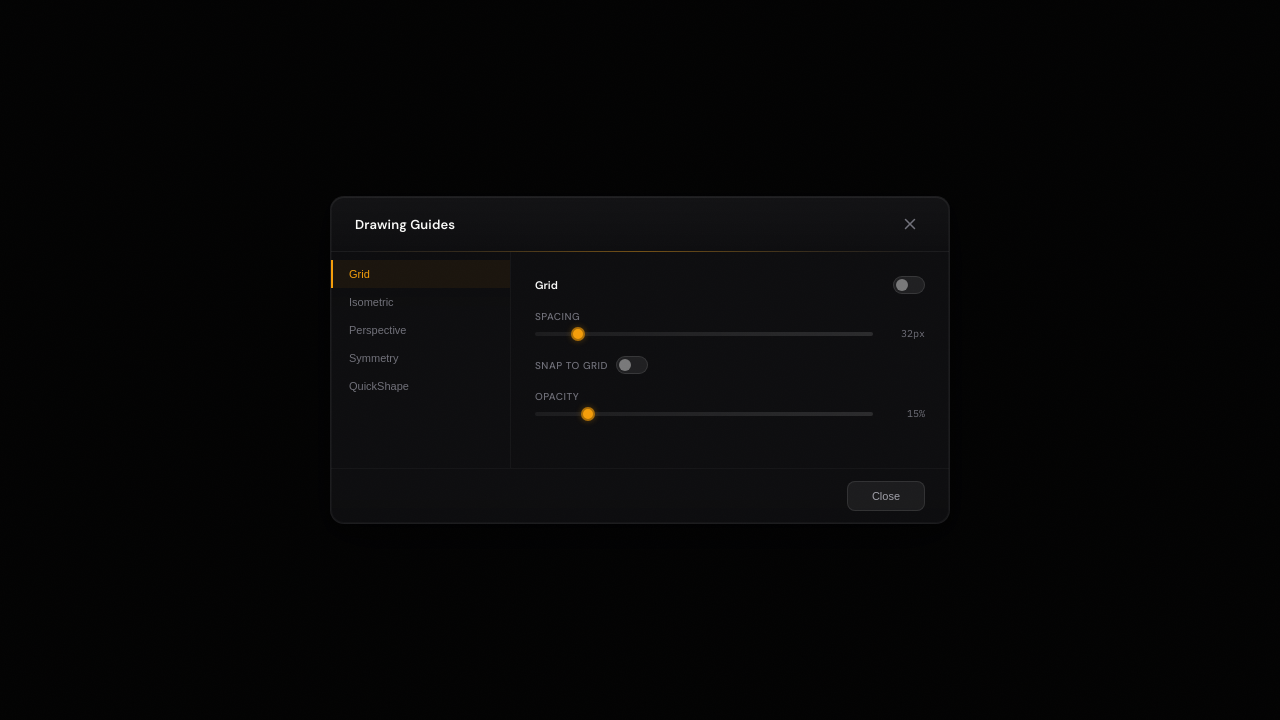
Test: DrawingGuidesDialog › switches to perspective section
What coordinates should you click on to do the following:
click the button "Perspective"
I would click on:
 (420, 330)
Its box is [331,316,510,344].
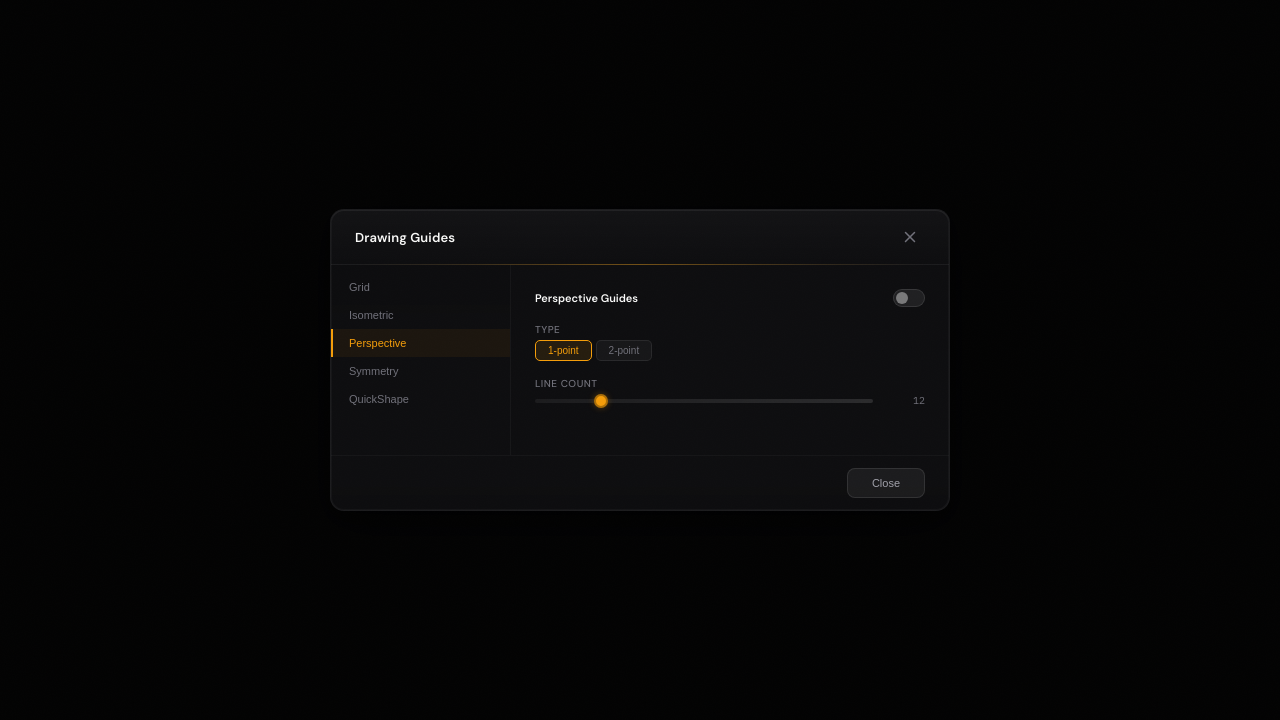
Result: the checkbox named "Enable perspective guides" is shown at [893,289,925,307]
Result: the button "1-point" is shown at [535,340,592,361]
Result: the button "2-point" is shown at [596,340,652,361]
